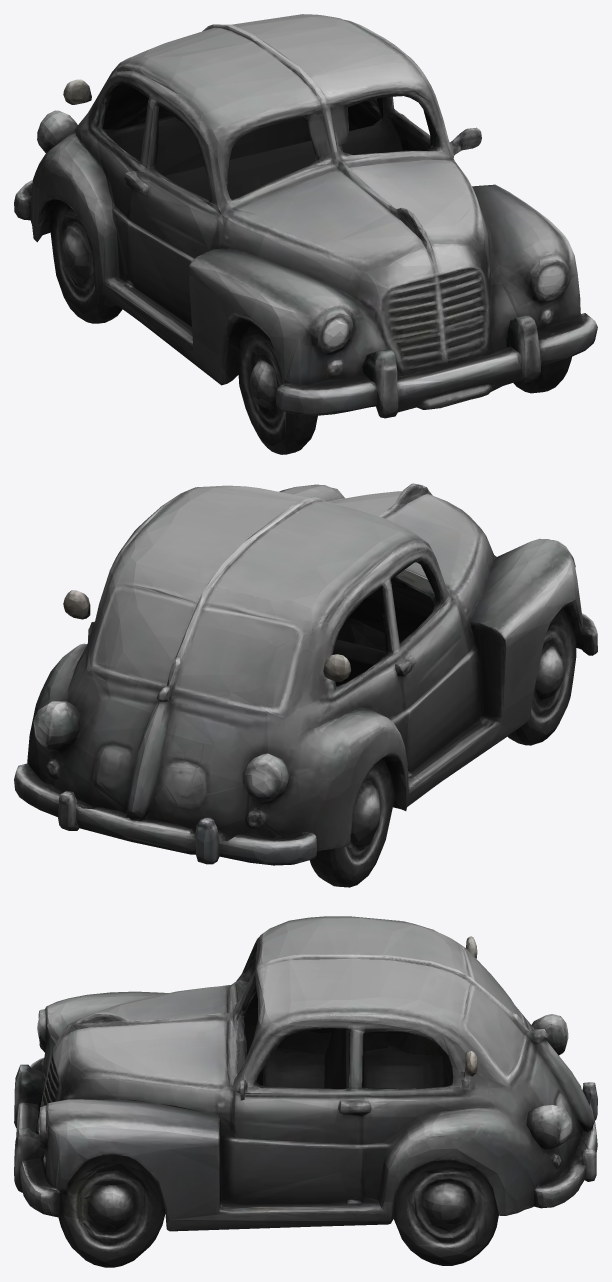
The model's file is classic-car.glb.
The picture shows the model from 3 angles, top to bottom: view 1: azimuth 30°, elevation 25°; view 2: azimuth 150°, elevation 25°; view 3: azimuth 270°, elevation 25°; orthographic projection. The views are drawn at different scales.
Visible parts, largest first — view 1: world; view 2: world; view 3: world.
Part boxes in pixels (x1,y1,x2,y2): world: [14, 14, 597, 454]; world: [14, 483, 597, 887]; world: [14, 916, 597, 1267].
Bounding box in the file's own units: 0.5707 × 0.4796 × 0.9982.
Materials: 1 (1 with a texture image).
